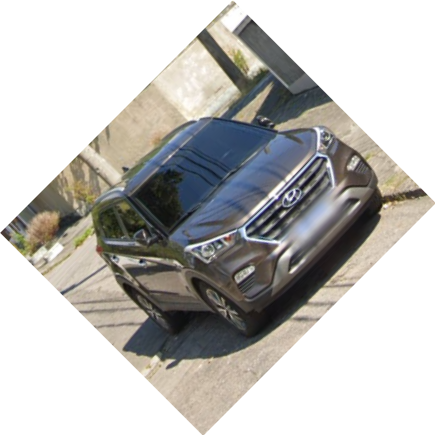car: (89, 117, 384, 340)
